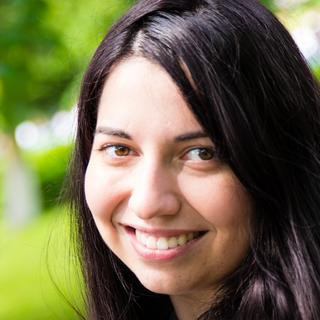eye: (175, 142, 221, 167), (99, 139, 141, 163)
